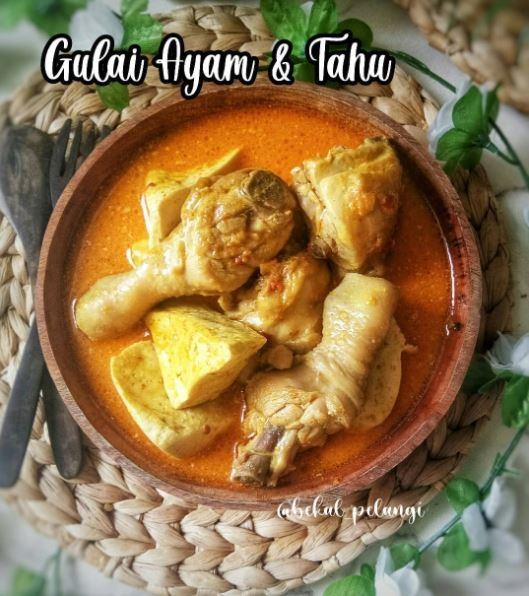gulai_ayam: (39, 91, 501, 510)
